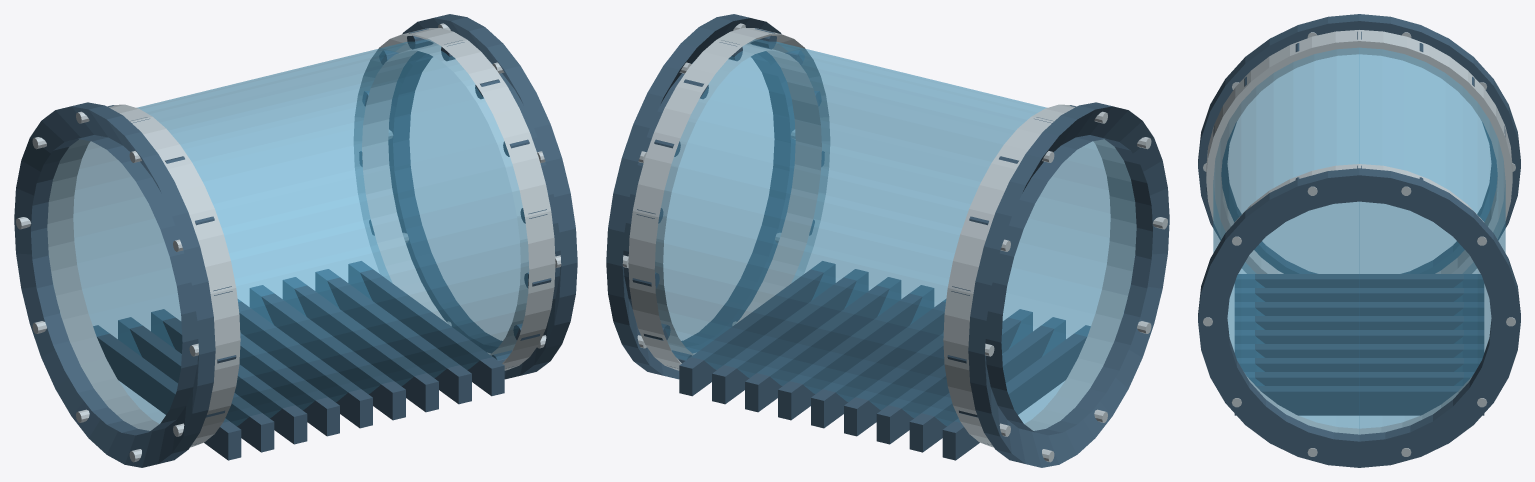
The model's file is 30_L75_VacuumWaferLoadLock.fbx.
3 renders of one model, left to right at view 1: azimuth 30°, elevation 25°; view 2: azimuth 150°, elevation 25°; view 3: azimuth 270°, elevation 25°, orthographic. The views are drawn at different scales.
Visible parts, largest first — view 1: VacuumWaferLoadLock; view 2: VacuumWaferLoadLock; view 3: VacuumWaferLoadLock.
Part boxes in pixels (x1,y1,x2,y2): VacuumWaferLoadLock: (14, 14, 577, 467); VacuumWaferLoadLock: (606, 14, 1169, 467); VacuumWaferLoadLock: (1198, 14, 1520, 467).
Size of the model in its own units: 174 by 146 by 146.
